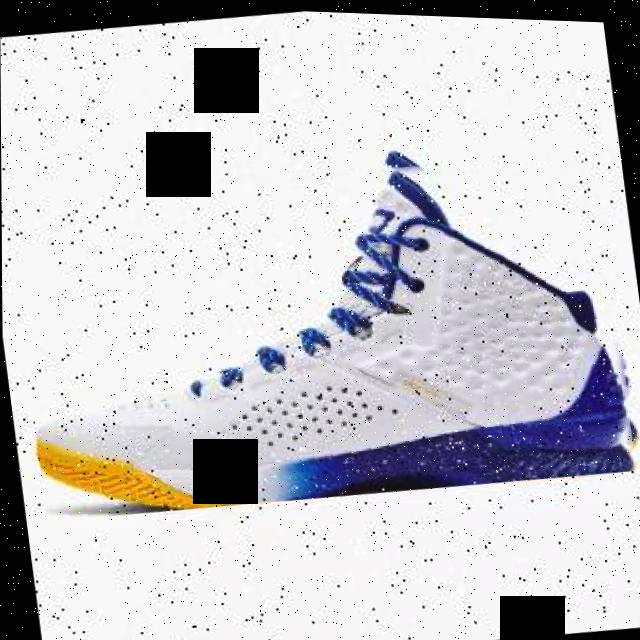shoe: (2, 107, 640, 538)
